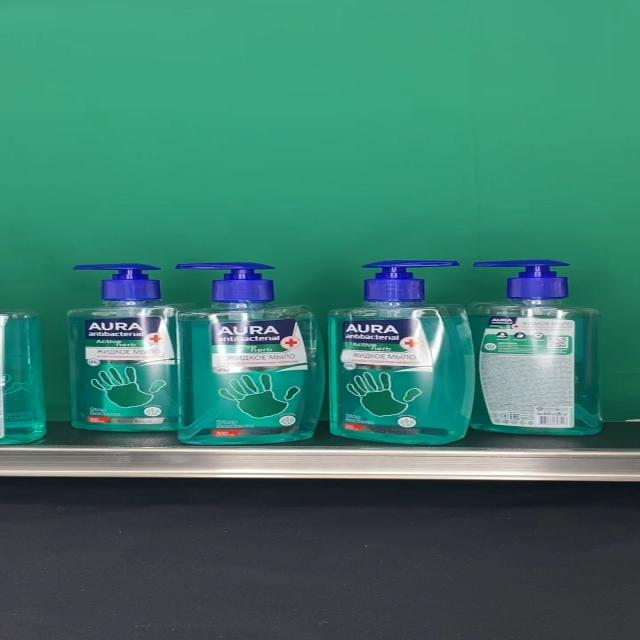Bottle: (177, 262, 326, 444), (328, 260, 474, 443), (466, 260, 604, 435), (67, 263, 198, 430)
Cap: (363, 260, 462, 301), (471, 260, 570, 300), (175, 262, 273, 300), (74, 264, 162, 300)
